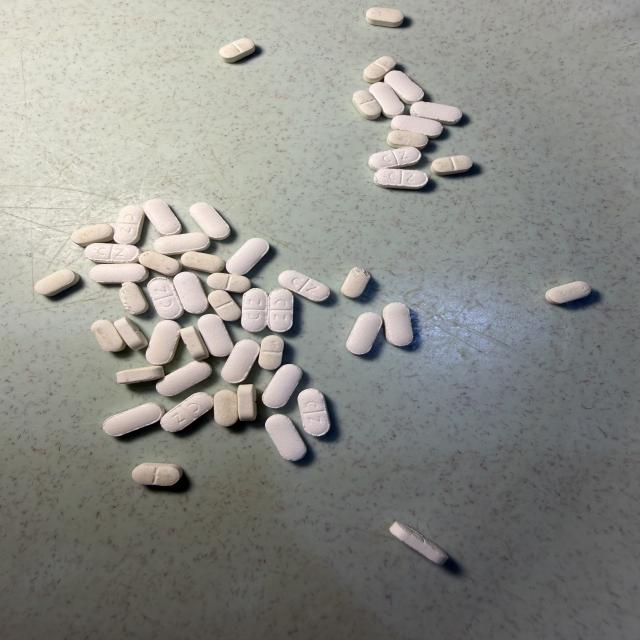pill: (390, 522, 448, 565), (161, 392, 213, 432), (103, 403, 164, 436), (156, 362, 212, 396), (265, 415, 306, 461), (262, 364, 302, 408), (221, 339, 259, 383), (226, 238, 269, 275), (279, 270, 330, 301), (147, 277, 184, 319), (298, 389, 330, 436), (146, 321, 180, 365), (190, 203, 230, 240), (347, 312, 382, 354), (198, 314, 233, 356), (173, 272, 208, 313), (143, 199, 181, 235), (384, 70, 424, 104), (383, 303, 413, 346), (154, 232, 210, 255), (113, 205, 145, 245), (241, 288, 269, 332), (370, 82, 404, 118), (391, 115, 443, 138), (410, 102, 462, 125), (369, 147, 421, 170), (35, 269, 79, 296), (90, 263, 148, 283), (91, 319, 126, 352), (132, 463, 182, 486), (114, 317, 148, 350), (85, 243, 141, 263), (374, 169, 428, 189), (139, 251, 182, 276), (268, 289, 293, 332), (546, 281, 591, 304), (208, 290, 241, 321), (181, 326, 209, 360), (119, 282, 148, 314), (71, 224, 113, 246), (181, 252, 224, 273), (341, 267, 370, 298), (207, 273, 251, 293), (214, 390, 238, 426), (219, 38, 255, 62), (259, 336, 284, 370), (353, 90, 382, 119), (364, 57, 395, 83), (117, 366, 164, 383), (431, 156, 472, 175), (387, 131, 428, 149), (366, 8, 404, 27), (238, 384, 256, 421)
